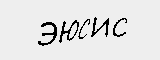И: (90, 15, 112, 37)
С: (110, 16, 133, 39), (78, 15, 90, 42)
Э: (37, 21, 57, 46)
Ю: (59, 17, 78, 44)
